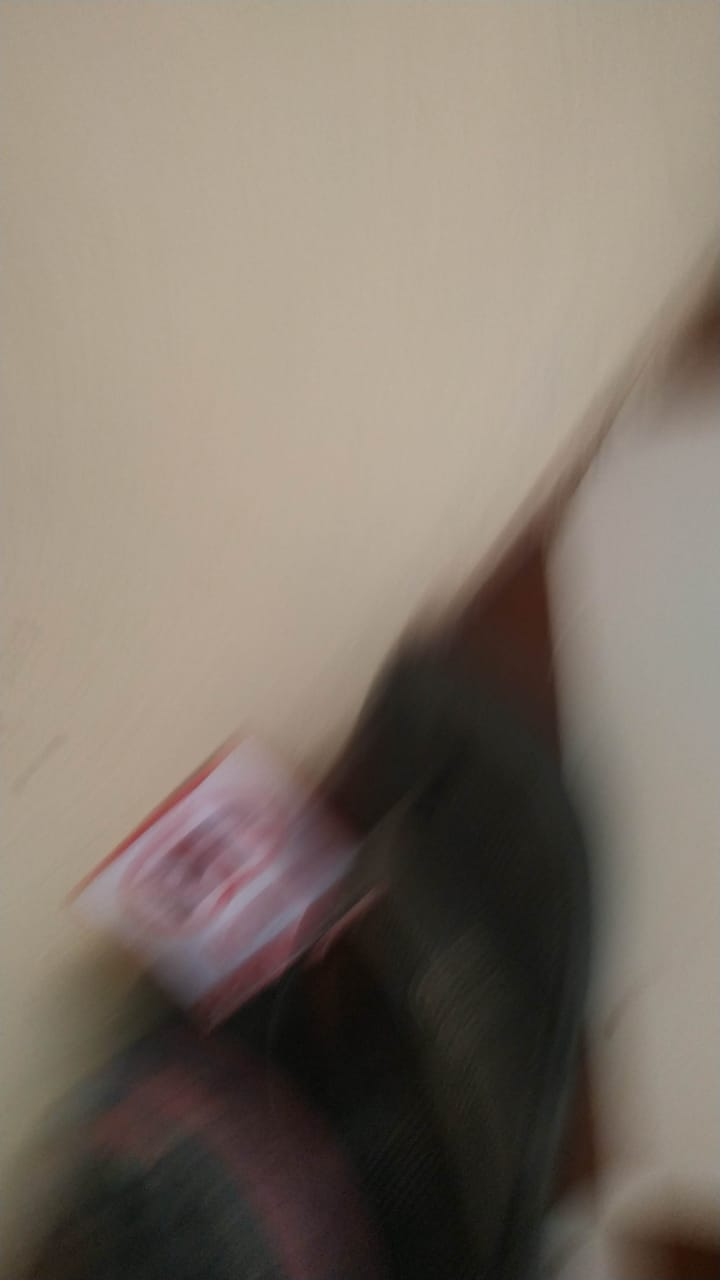NO PARKING: (64, 715, 414, 1011)
